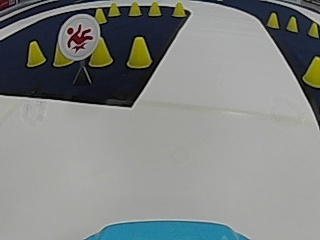cone: (127, 35, 152, 69), (89, 39, 113, 68), (301, 54, 319, 89), (26, 40, 45, 67), (52, 45, 72, 67), (266, 11, 279, 29), (94, 7, 107, 24), (172, 1, 185, 17), (286, 15, 298, 32), (148, 1, 161, 16), (129, 1, 141, 16), (108, 2, 120, 17), (308, 22, 318, 38)
tumble: (63, 18, 97, 54)
